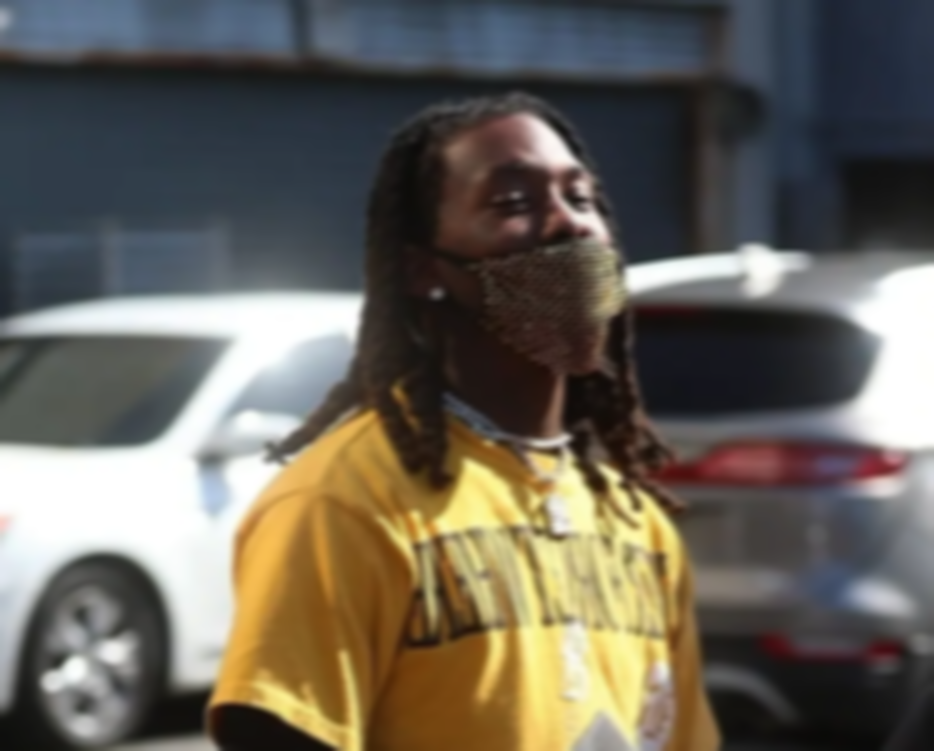mask_weared_incorrect: (371, 90, 635, 377)
